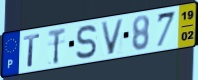7: (155, 10, 178, 48)
8: (131, 14, 150, 52)
S: (75, 24, 98, 61)
T: (47, 27, 67, 67), (23, 32, 41, 68)
V: (99, 18, 126, 57)
